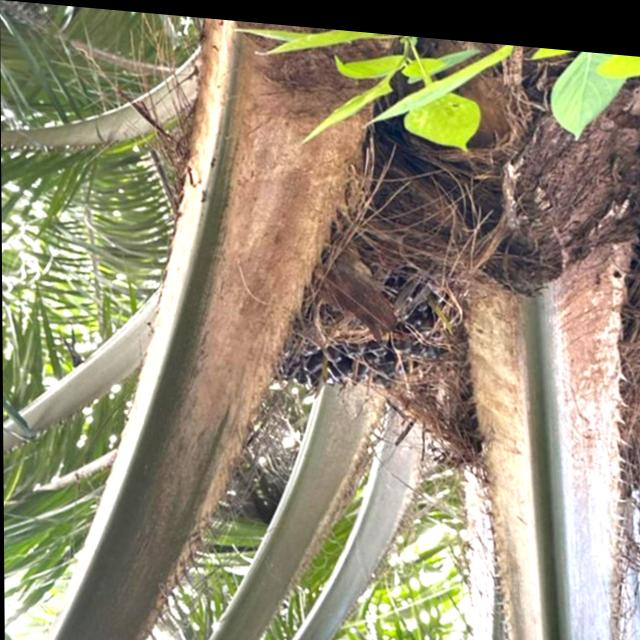almost: (255, 214, 470, 408)
